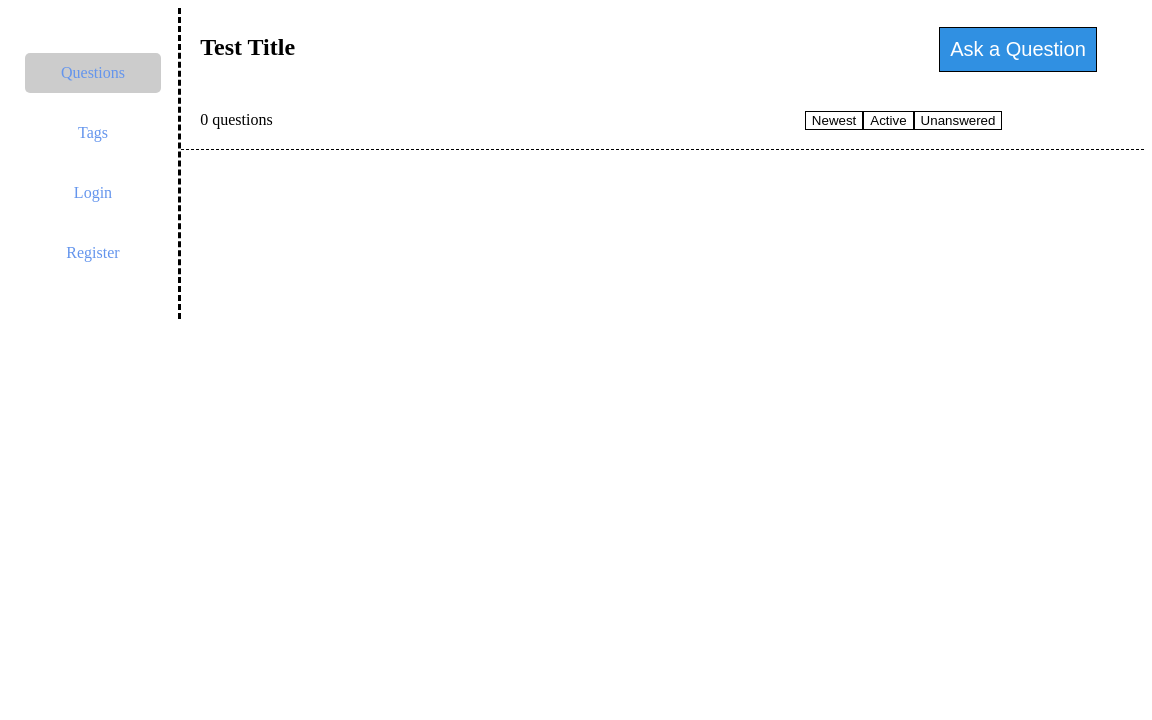
Test: Main Component › displays RegisterPage when Register button is clicked
Click the text with id "menu_register": (93, 253) 66,244 -> 119,261
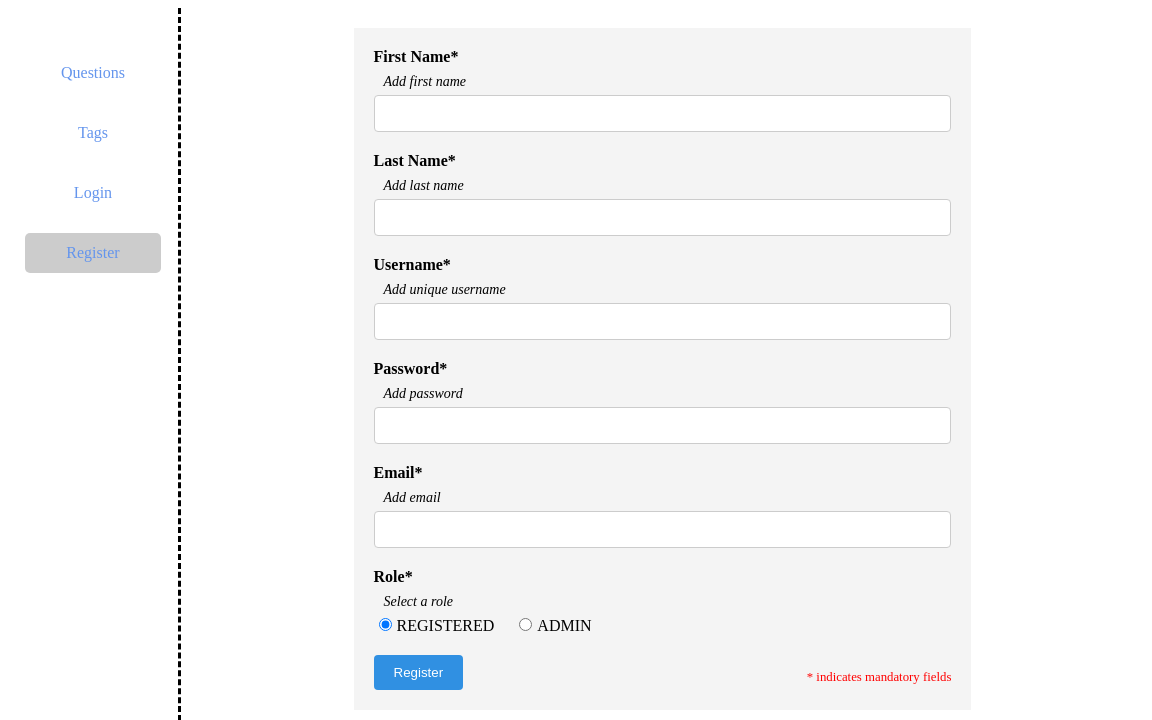
Check: the button "Register" is shown, box 374,655 -> 463,690
